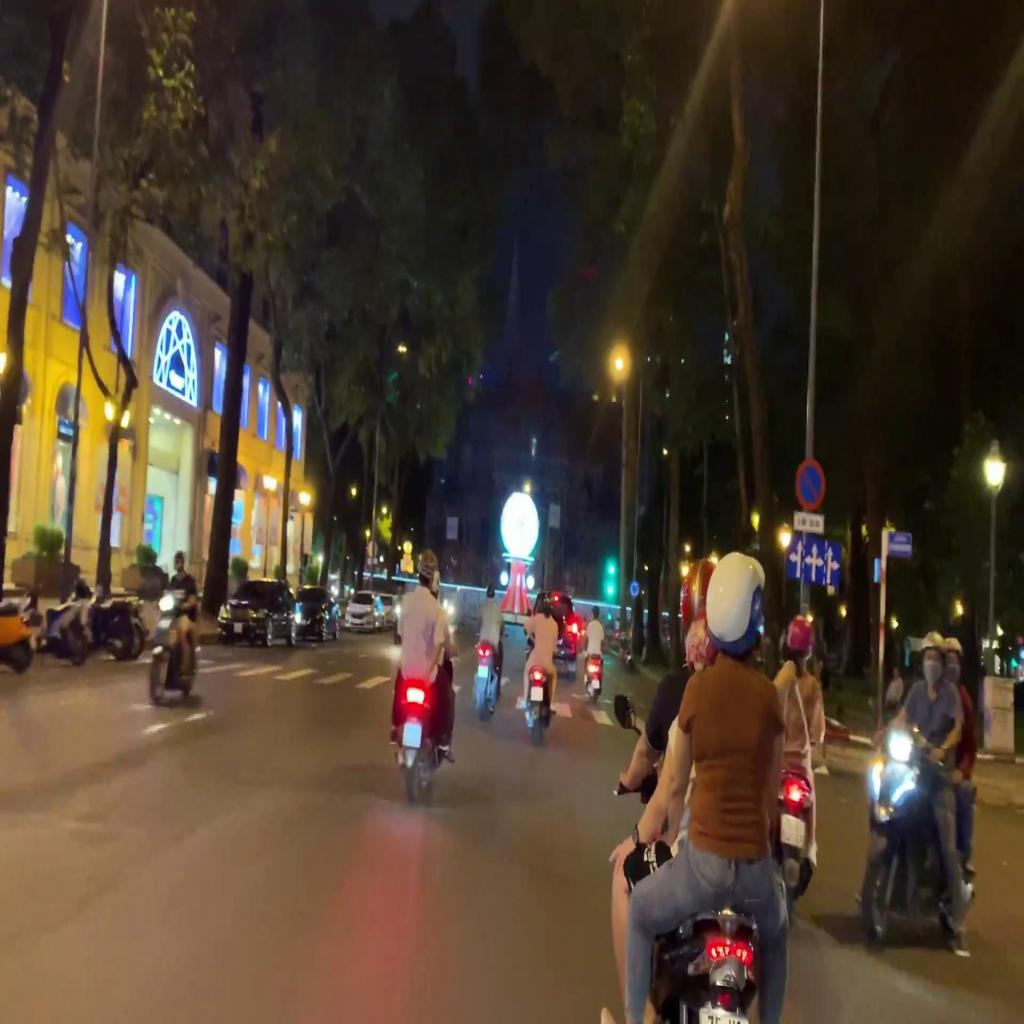cam_do_xe: (796, 458, 825, 509)
huong_di_tren_moi_lan_duong_theo_vach_ke_duong: (787, 536, 840, 588)
khac: (794, 512, 825, 533)
noi_giao_nhau_chay_theo_vong: (630, 581, 638, 598)
